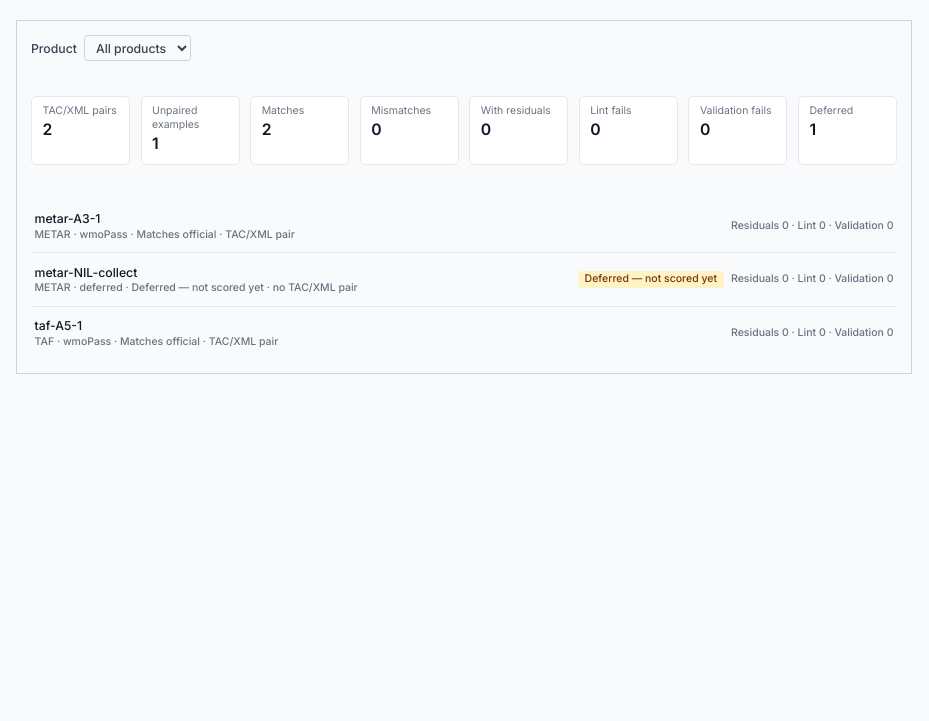
Test: QualityMetricsPage detail (TC-EV054-003..004) › shows match status, panes, and empty unified diff for equal stem
The width and height of the screenshot is (929, 721).
Click the button with test id "quality-metrics-row-metar-A3-1". click: (67, 218)
box: [31, 200, 897, 252]
(page scrolled)
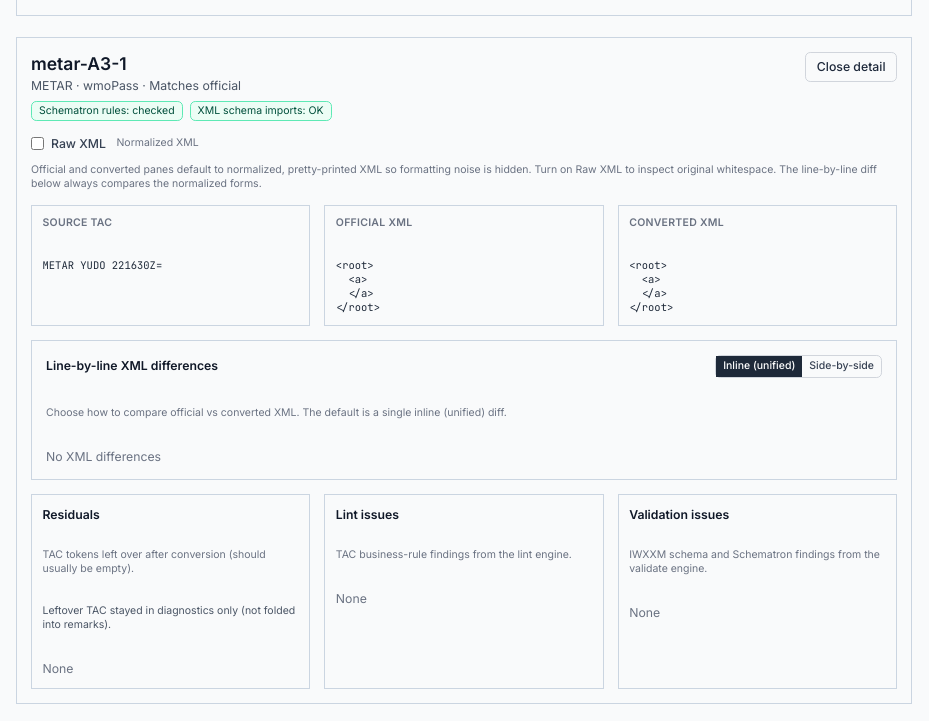
Check: the element with test id "quality-metrics-detail" is shown
Check: the text with test id "quality-metrics-match-status" reads "Matches official", box [149, 78, 241, 92]
Check: the element with test id "quality-metrics-pane-tac" shows "METAR YUDO", box [42, 258, 162, 272]
